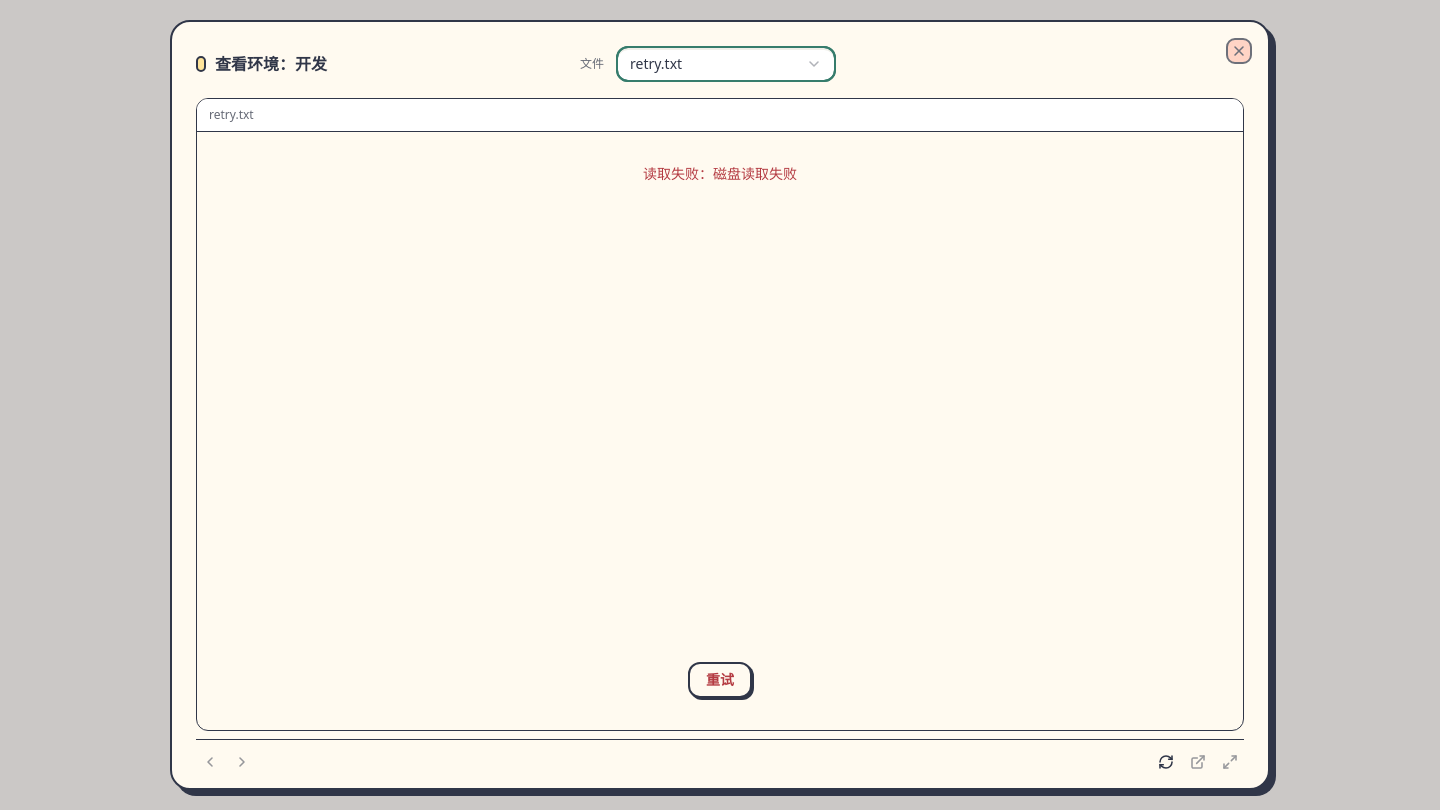
Test case: EnvironmentDiffDialog › shows the original detail error with a retry action
The width and height of the screenshot is (1440, 810).
Expected: the message with test id "environment-diff-error" reads "读取失败：磁盘读取失败", x1=643 y1=164 x2=797 y2=183
What coordinates should you click on to do the following:
click the button "重试"
I would click on:
 (720, 680)
Its box is x1=688 y1=662 x2=752 y2=698.
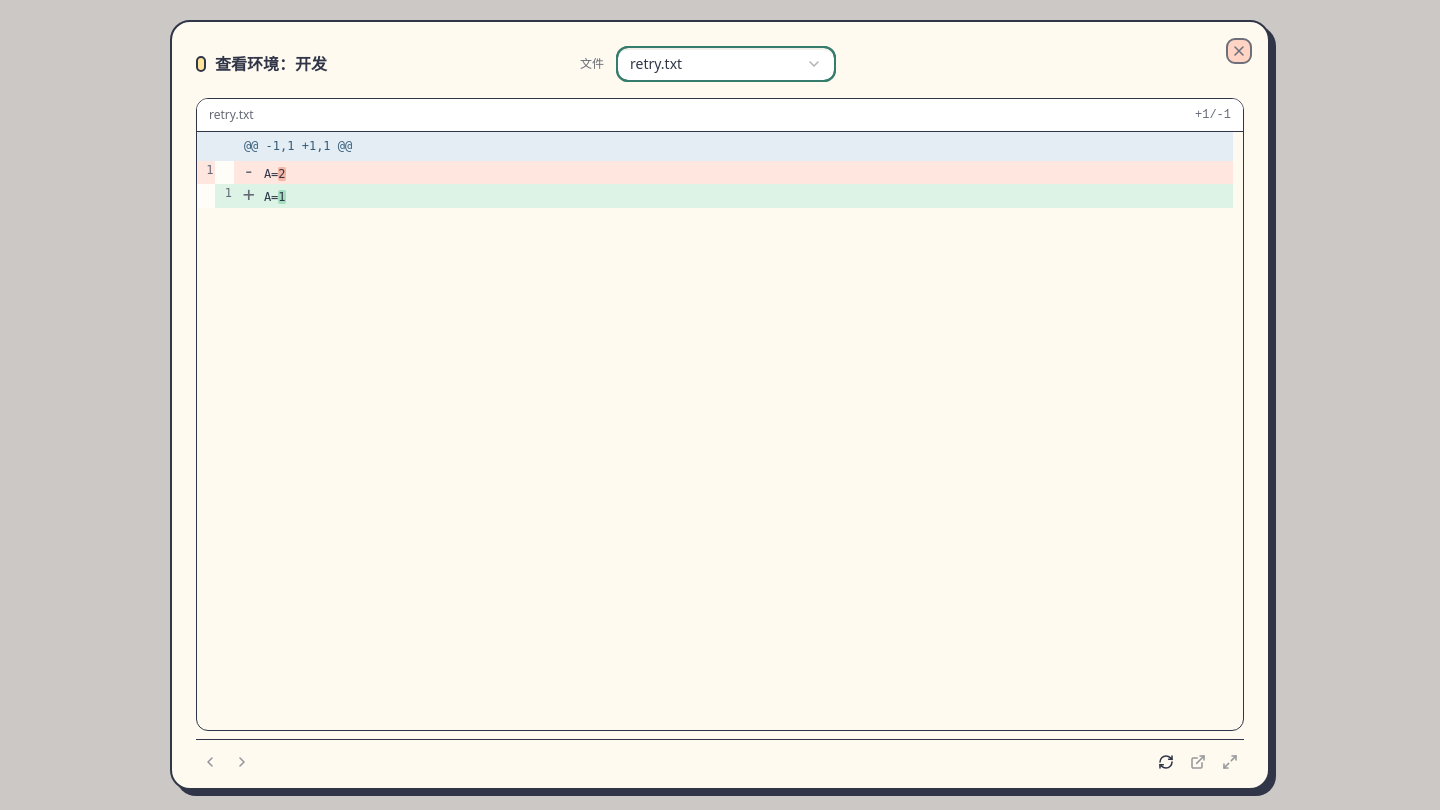
Expected: the element with test id "environment-diff-view" is shown, x1=196 y1=132 x2=1233 y2=208
